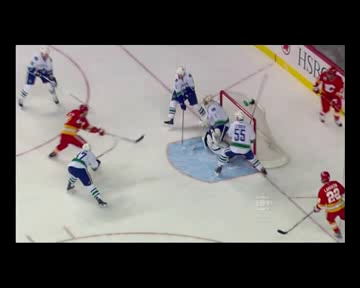normal: (46, 101, 126, 213), (159, 62, 207, 131), (303, 165, 344, 242)
